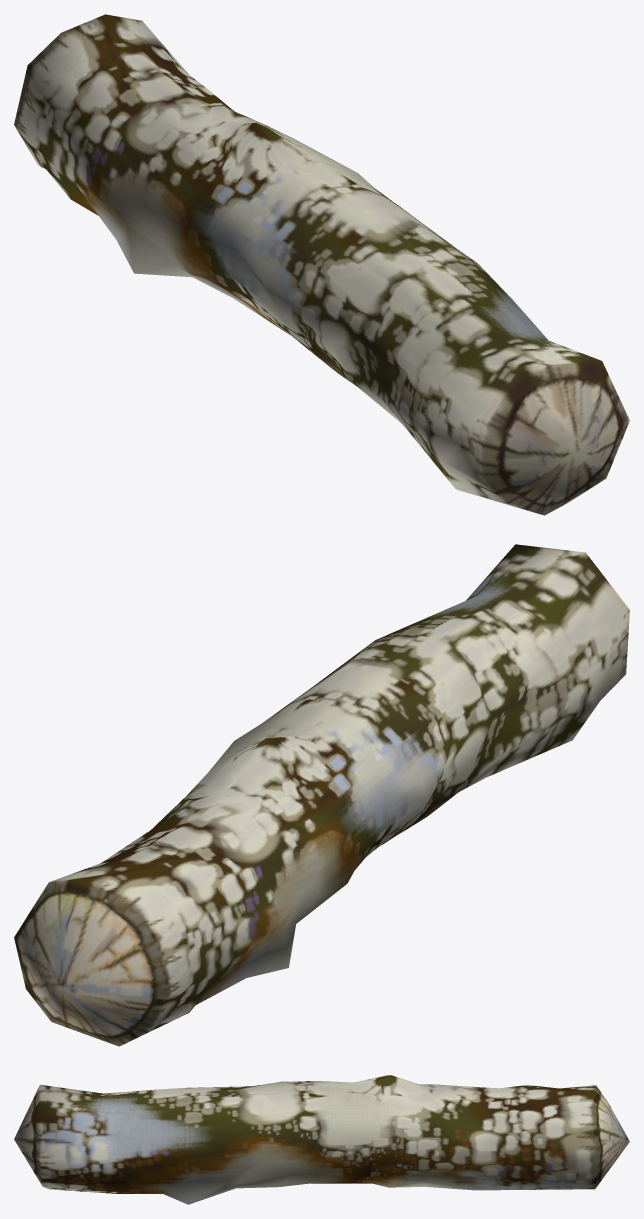
Rendered from birch_log_1.fbx.
3 renders of one model, top to bottom at view 1: azimuth 30°, elevation 25°; view 2: azimuth 150°, elevation 25°; view 3: azimuth 270°, elevation 25°, orthographic. The views are drawn at different scales.
Visible parts, largest first — view 1: birch_log_1; view 2: birch_log_1; view 3: birch_log_1.
Boxes of the visible parts, x1=… form: birch_log_1: x1=14, y1=14, x2=629, y2=515; birch_log_1: x1=14, y1=544, x2=629, y2=1046; birch_log_1: x1=14, y1=1075, x2=629, y2=1204.
Size of the model in its own units: 16.61 by 17.91 by 88.18.
